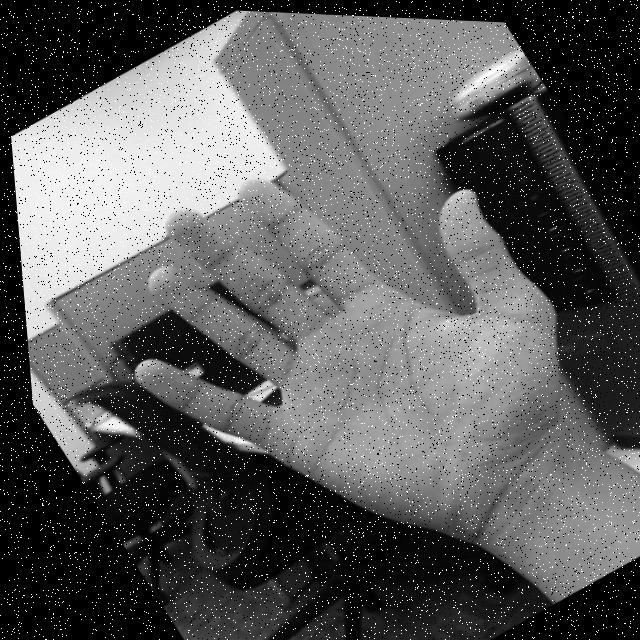no-gloves: (44, 60, 636, 622)
